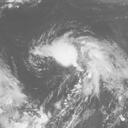cyclone: (50, 43, 77, 68)
